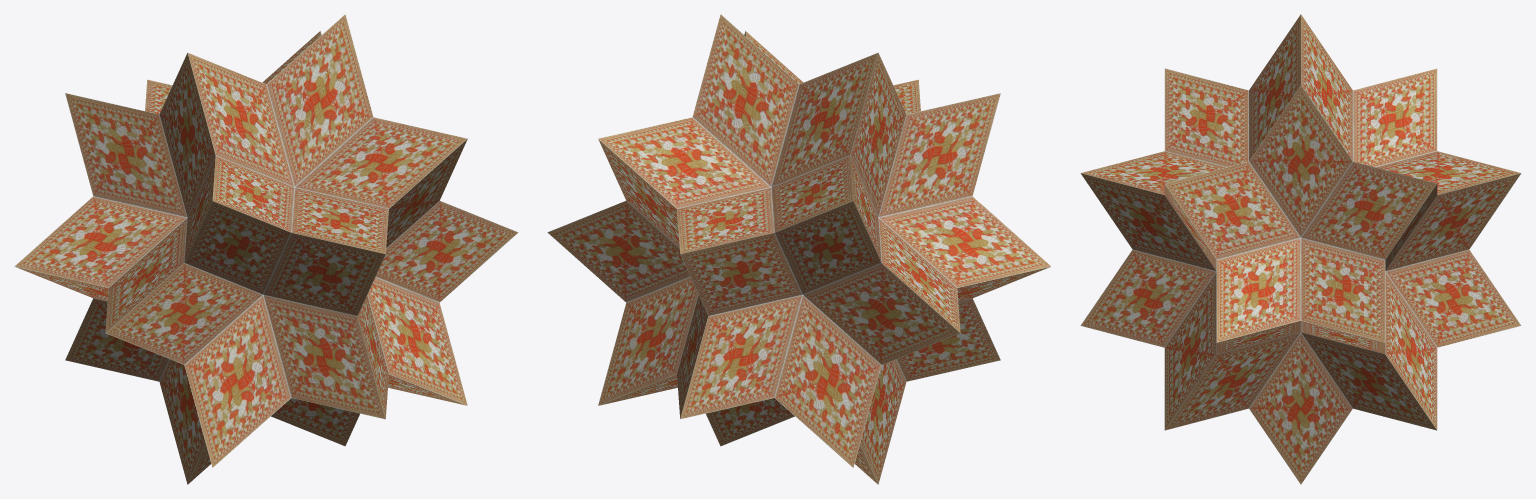
File: RhombicHexecontahedron12.obj
3 renders of one model, left to right at view 1: azimuth 30°, elevation 25°; view 2: azimuth 150°, elevation 25°; view 3: azimuth 270°, elevation 25°, orthographic. The views are drawn at different scales.
Size of the model in its own units: 4.45 by 4.45 by 4.45.
1 material, 1 textured.
